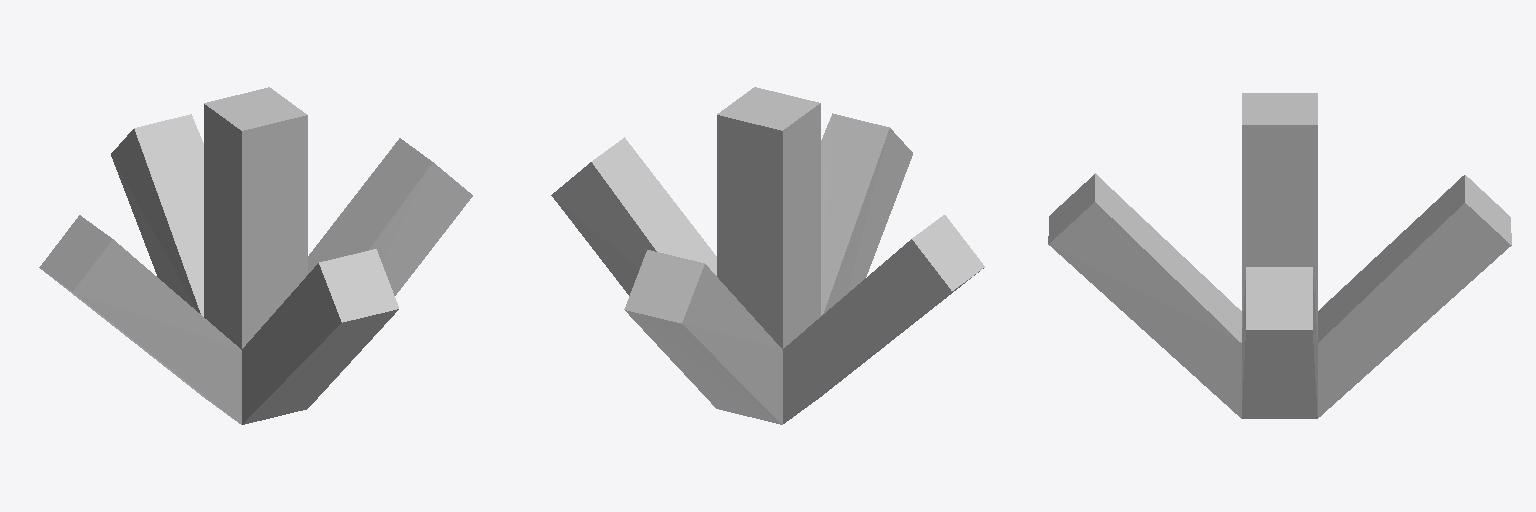
File: crystalOne1.obj
The picture shows the model from 3 angles: view 1: azimuth 30°, elevation 25°; view 2: azimuth 150°, elevation 25°; view 3: azimuth 270°, elevation 25°; orthographic projection.
Visible parts, largest first — view 1: crystal body; view 2: crystal body; view 3: crystal body.
Boxes of the visible parts, <box> form: crystal body: <box>39,87,472,424</box>; crystal body: <box>551,87,984,424</box>; crystal body: <box>1048,93,1511,418</box>.
Bounding box in the file's own units: 0.8901 × 0.6239 × 0.8902.